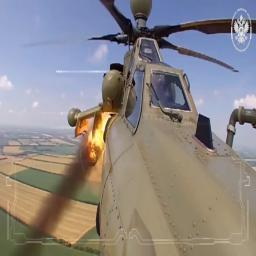helicopter: (49, 2, 221, 250)
